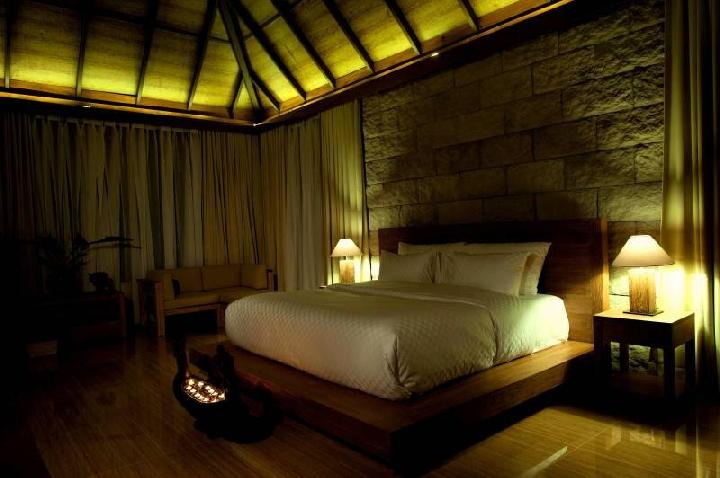lampu: (599, 214, 688, 335), (315, 224, 379, 290)
